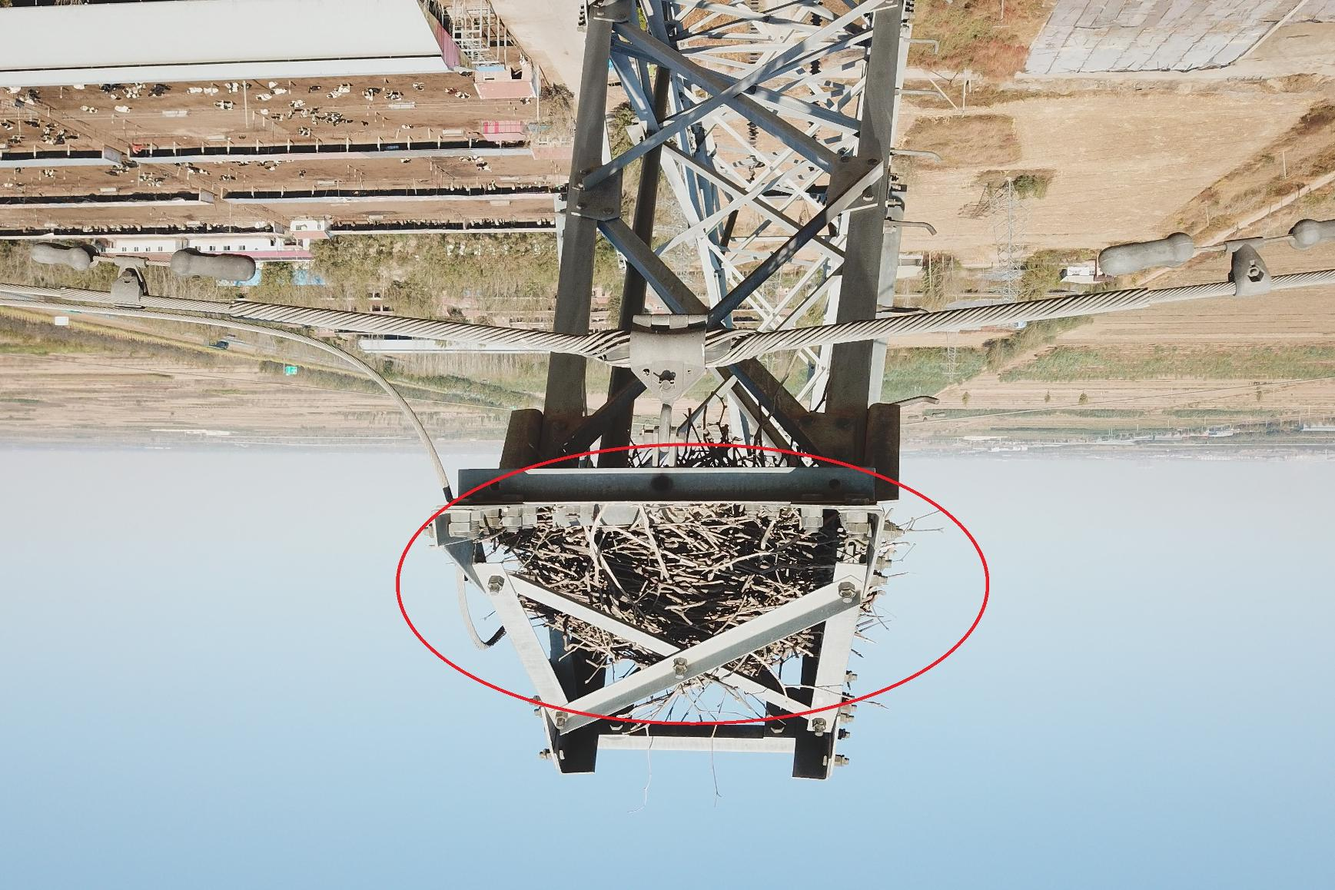damper: (1087, 213, 1335, 308), (21, 237, 259, 314)
nest: (477, 421, 902, 712)
